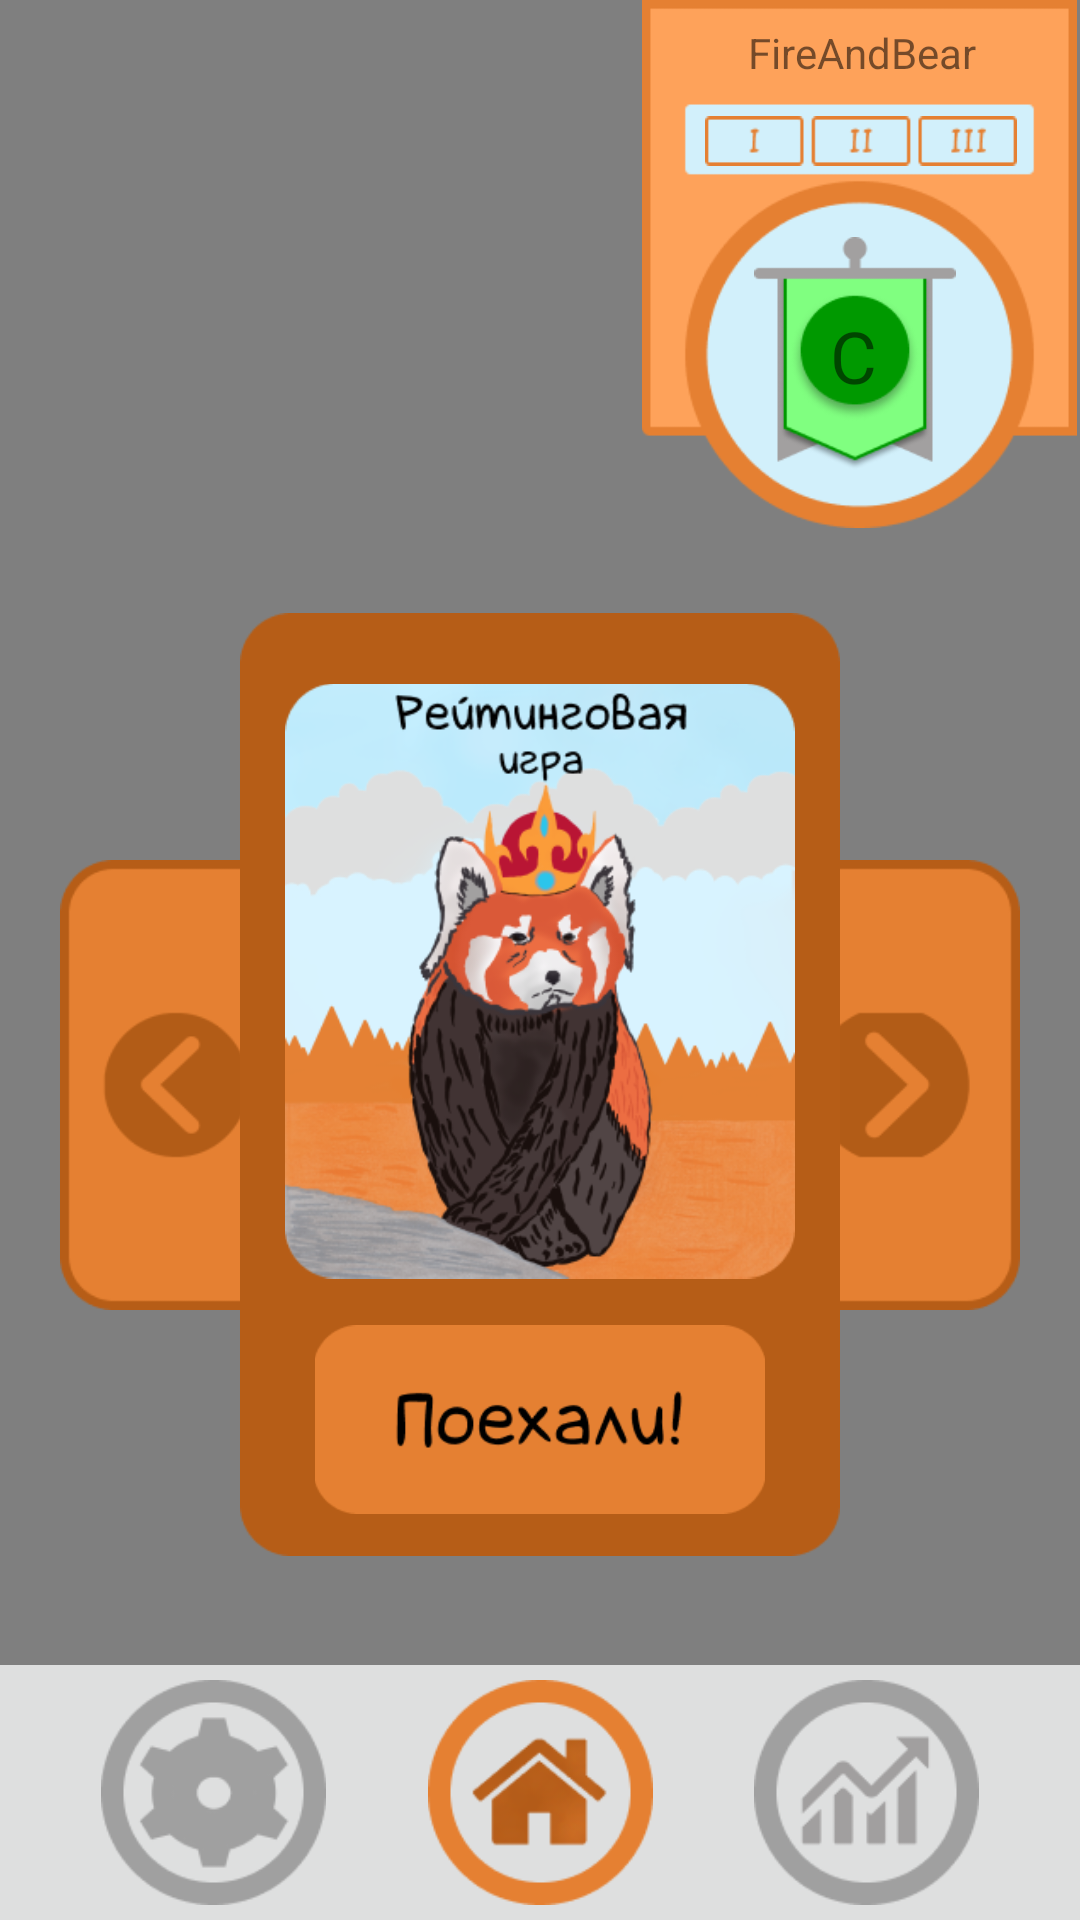

Where to tap for icons on this 1080 × 1920 app screen, as [x,y]:
home on: [540,1792]
setting off: [213,1792]
stats off: [866,1792]
